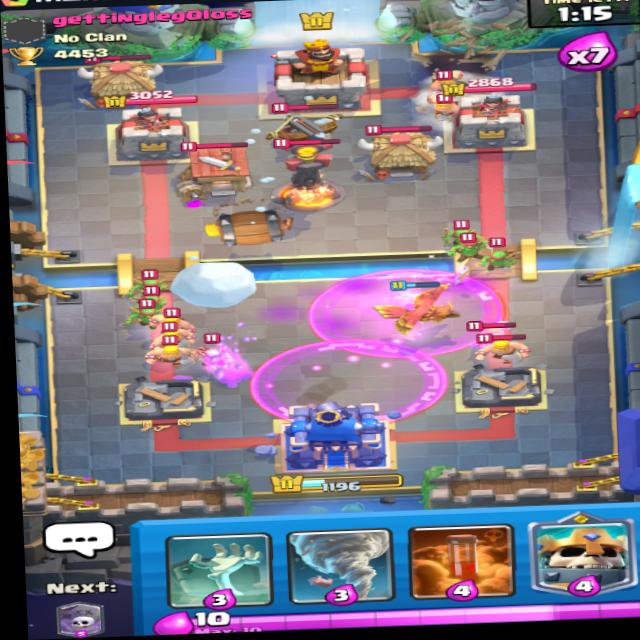barbarian: (137, 309, 201, 337), (422, 64, 474, 94), (472, 335, 527, 363), (148, 322, 207, 347), (144, 337, 196, 365), (465, 319, 524, 341), (424, 90, 461, 117)
barbarian-barrel: (196, 205, 297, 247)
barbarian-hut: (175, 136, 256, 195)
goblin-hut: (357, 120, 449, 184), (78, 48, 159, 104)
inferno-tower: (273, 133, 349, 208)
rage: (302, 255, 510, 359), (252, 322, 452, 425)
snowball: (172, 256, 264, 312)
spear-goblin: (481, 239, 521, 272), (125, 298, 167, 329), (452, 235, 486, 270), (443, 218, 479, 250), (131, 283, 173, 309), (127, 270, 169, 295), (194, 342, 230, 368)
x-bow: (251, 93, 349, 158)
